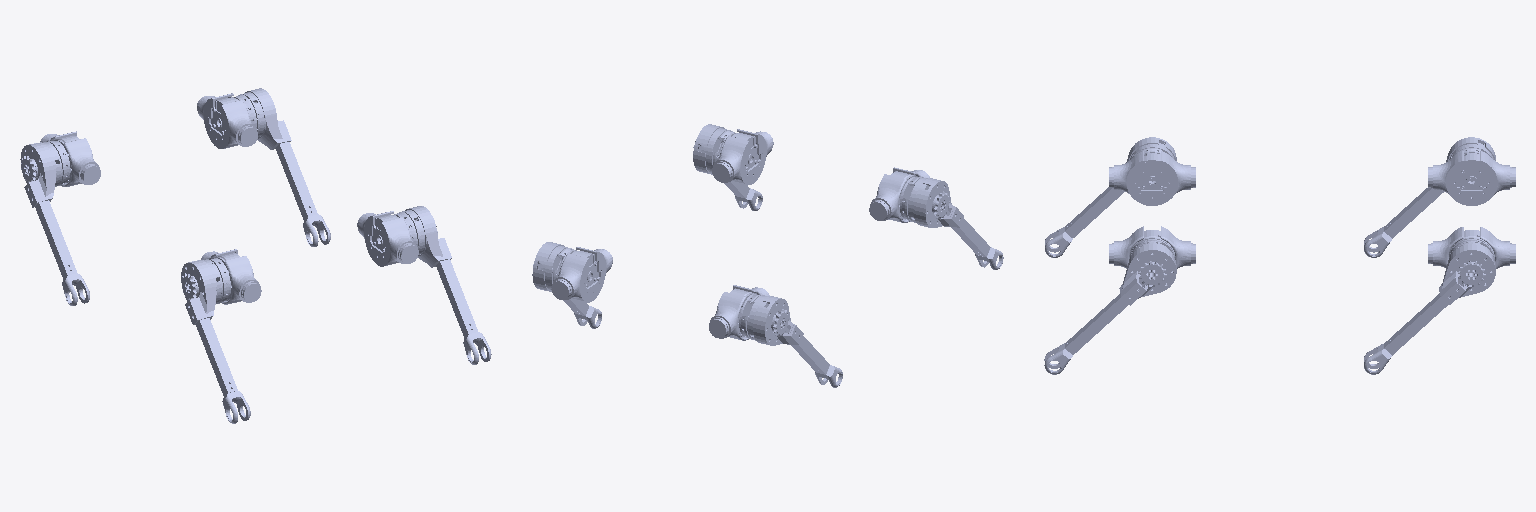
URDF robot description (NUDogv2):
<?xml version="1.0" encoding="utf-8"?>
<!-- This URDF was automatically created by SolidWorks to URDF Exporter! Originally created by [author] ([email redacted]) 
     Commit Version: 1.6.0-4-g7f85cfe  Build Version: 1.6.7995.38578
     For more information, please see http://wiki.ros.org/sw_urdf_exporter -->
<robot
  name="NUDogv2">
  <link
    name="Body">
    <inertial>
      <origin
        xyz="-0.000211548270024517 -0.455924903723439 0.000570759184668047"
        rpy="0 0 0" />
      <mass
        value="7.3658966638029" />
      <inertia
        ixx="0.149737913482403"
        ixy="5.4566009501789E-07"
        ixz="-8.98208160406347E-13"
        iyy="0.0402457604729162"
        iyz="6.61238000974235E-11"
        izz="0.174510484060074" />
    </inertial>
    <visual>
      <origin
        xyz="0 0 0"
        rpy="0 0 0" />
      <geometry>
        <mesh
          filename="package://NUDogv2/meshes/Body.STL" />
      </geometry>
      <material
        name="">
        <color
          rgba="0.898039215686275 0.92156862745098 0.929411764705882 1" />
      </material>
    </visual>
    <collision>
      <origin
        xyz="0 0 0"
        rpy="0 0 0" />
      <geometry>
        <mesh
          filename="package://NUDogv2/meshes/Body.STL" />
      </geometry>
    </collision>
  </link>
  <link
    name="FR_1">
    <inertial>
      <origin
        xyz="-0.00176714022956819 0.000819654001147196 -0.0869564696489047"
        rpy="0 0 0" />
      <mass
        value="0.628306425345395" />
      <inertia
        ixx="0.00162123013189857"
        ixy="3.09906069011344E-06"
        ixz="-4.75997103606045E-08"
        iyy="0.00196763934294934"
        iyz="1.95223651534237E-07"
        izz="0.00053714617815285" />
    </inertial>
    <visual>
      <origin
        xyz="0 0 0"
        rpy="0 0 0" />
      <geometry>
        <mesh
          filename="package://NUDogv2/meshes/FR_1.STL" />
      </geometry>
      <material
        name="">
        <color
          rgba="0.792156862745098 0.819607843137255 0.933333333333333 1" />
      </material>
    </visual>
    <collision>
      <origin
        xyz="0 0 0"
        rpy="0 0 0" />
      <geometry>
        <mesh
          filename="package://NUDogv2/meshes/FR_1.STL" />
      </geometry>
    </collision>
  </link>
  <joint
    name="FR_Ad"
    type="revolute">
    <origin
      xyz="0.2 -0.19035 0"
      rpy="1.5708 -1.5708 0" />
    <parent
      link="Body" />
    <child
      link="FR_1" />
    <axis
      xyz="0 0 1" />
    <limit
      lower="-5"
      upper="5"
      effort="5"
      velocity="5" />
  </joint>
  <link
    name="FR_2">
    <inertial>
      <origin
        xyz="3.88653367643932E-05 -0.0440099346861161 -0.0372579060320848"
        rpy="0 0 0" />
      <mass
        value="0.955322691926052" />
      <inertia
        ixx="0.00135385236553172"
        ixy="-1.30915451823784E-06"
        ixz="5.40561671335864E-08"
        iyy="0.000526597180169"
        iyz="-1.02092745449935E-05"
        izz="0.00173666668506924" />
    </inertial>
    <visual>
      <origin
        xyz="0 0 0"
        rpy="0 0 0" />
      <geometry>
        <mesh
          filename="package://NUDogv2/meshes/FR_2.STL" />
      </geometry>
      <material
        name="">
        <color
          rgba="0.792156862745098 0.819607843137255 0.933333333333333 1" />
      </material>
    </visual>
    <collision>
      <origin
        xyz="0 0 0"
        rpy="0 0 0" />
      <geometry>
        <mesh
          filename="package://NUDogv2/meshes/FR_2.STL" />
      </geometry>
    </collision>
  </link>
  <joint
    name="FR_Hip"
    type="revolute">
    <origin
      xyz="0 -0.04635 -0.087"
      rpy="-1.5708 -0.78534 0" />
    <parent
      link="FR_1" />
    <child
      link="FR_2" />
    <axis
      xyz="0 0 1" />
    <limit
      lower="-5"
      upper="5"
      effort="5"
      velocity="5" />
  </joint>
  <link
    name="FR_3">
    <inertial>
      <origin
        xyz="0.105104655181102 -0.0640400377599924 -0.0238900020682811"
        rpy="0 0 0" />
      <mass
        value="0.423252165011343" />
      <inertia
        ixx="0.000289863197916037"
        ixy="0.000346854331370428"
        ixz="-1.45405032408544E-10"
        iyy="0.000644163854037181"
        iyz="3.97590266565829E-10"
        izz="0.000881301821186304" />
    </inertial>
    <visual>
      <origin
        xyz="0 0 0"
        rpy="0 0 0" />
      <geometry>
        <mesh
          filename="package://NUDogv2/meshes/FR_3.STL" />
      </geometry>
      <material
        name="">
        <color
          rgba="0.647058823529412 0.619607843137255 0.588235294117647 1" />
      </material>
    </visual>
    <collision>
      <origin
        xyz="0 0 0"
        rpy="0 0 0" />
      <geometry>
        <mesh
          filename="package://NUDogv2/meshes/FR_3.STL" />
      </geometry>
    </collision>
  </link>
  <joint
    name="FR_Knee"
    type="revolute">
    <origin
      xyz="0.00025 -0.3066 -0.083724"
      rpy="3.1416 0 2.7668" />
    <parent
      link="FR_2" />
    <child
      link="FR_3" />
    <axis
      xyz="0 0 1" />
    <limit
      lower="-5"
      upper="5"
      effort="5"
      velocity="5" />
  </joint>
  <link
    name="FL_1">
    <inertial>
      <origin
        xyz="-0.00176714526033473 -0.000819664820074811 -0.0870435354363932"
        rpy="0 0 0" />
      <mass
        value="0.628305321520991" />
      <inertia
        ixx="0.00162123211647625"
        ixy="-3.09902629211013E-06"
        ixz="4.82593164647364E-08"
        iyy="0.00196763709474905"
        iyz="1.95284679307444E-07"
        izz="0.000537145766319733" />
    </inertial>
    <visual>
      <origin
        xyz="0 0 0"
        rpy="0 0 0" />
      <geometry>
        <mesh
          filename="package://NUDogv2/meshes/FL_1.STL" />
      </geometry>
      <material
        name="">
        <color
          rgba="0.792156862745098 0.819607843137255 0.933333333333333 1" />
      </material>
    </visual>
    <collision>
      <origin
        xyz="0 0 0"
        rpy="0 0 0" />
      <geometry>
        <mesh
          filename="package://NUDogv2/meshes/FL_1.STL" />
      </geometry>
    </collision>
  </link>
  <joint
    name="FL_Ad"
    type="revolute">
    <origin
      xyz="-0.2 -0.19035 0"
      rpy="1.5708 -1.5708 0" />
    <parent
      link="Body" />
    <child
      link="FL_1" />
    <axis
      xyz="0 0 1" />
    <limit
      lower="-5"
      upper="5"
      effort="5"
      velocity="5" />
  </joint>
  <link
    name="FL_2">
    <inertial>
      <origin
        xyz="6.88107812843175E-05 -0.0439891388981822 -0.0372579049106987"
        rpy="0 0 0" />
      <mass
        value="0.955322588232291" />
      <inertia
        ixx="0.0013538244879862"
        ixy="-1.33675940094233E-06"
        ixz="-4.18973189634197E-07"
        iyy="0.000526625025236917"
        iyz="-1.0489729600724E-05"
        izz="0.00173666666385911" />
    </inertial>
    <visual>
      <origin
        xyz="0 0 0"
        rpy="0 0 0" />
      <geometry>
        <mesh
          filename="package://NUDogv2/meshes/FL_2.STL" />
      </geometry>
      <material
        name="">
        <color
          rgba="0.792156862745098 0.819607843137255 0.933333333333333 1" />
      </material>
    </visual>
    <collision>
      <origin
        xyz="0 0 0"
        rpy="0 0 0" />
      <geometry>
        <mesh
          filename="package://NUDogv2/meshes/FL_2.STL" />
      </geometry>
    </collision>
  </link>
  <joint
    name="FL_Hip"
    type="revolute">
    <origin
      xyz="0 0.04635 -0.087"
      rpy="-1.5708 0.78534 3.1416" />
    <parent
      link="FL_1" />
    <child
      link="FL_2" />
    <axis
      xyz="0 0 1" />
    <limit
      lower="-5"
      upper="5"
      effort="5"
      velocity="5" />
  </joint>
  <link
    name="FL_3">
    <inertial>
      <origin
        xyz="0.105303663557735 -0.0646580725694623 -0.636257997934563"
        rpy="0 0 0" />
      <mass
        value="0.42325216590946" />
      <inertia
        ixx="0.000289864448673439"
        ixy="0.000346854970340331"
        ixz="4.13807842263747E-10"
        iyy="0.000644162603951156"
        iyz="5.67488376831414E-11"
        izz="0.000881301821870475" />
    </inertial>
    <visual>
      <origin
        xyz="0 0 0"
        rpy="0 0 0" />
      <geometry>
        <mesh
          filename="package://NUDogv2/meshes/FL_3.STL" />
      </geometry>
      <material
        name="">
        <color
          rgba="0.192156862745098 0.203921568627451 0.203921568627451 1" />
      </material>
    </visual>
    <collision>
      <origin
        xyz="0 0 0"
        rpy="0 0 0" />
      <geometry>
        <mesh
          filename="package://NUDogv2/meshes/FL_3.STL" />
      </geometry>
    </collision>
  </link>
  <joint
    name="FL_Knee"
    type="revolute">
    <origin
      xyz="-0.00025 -0.3066 0.57642"
      rpy="0 0 0.37477" />
    <parent
      link="FL_2" />
    <child
      link="FL_3" />
    <axis
      xyz="0 0 1" />
    <limit
      lower="-5"
      upper="5"
      effort="5"
      velocity="5" />
  </joint>
  <link
    name="BR_1">
    <inertial>
      <origin
        xyz="0.00176714526033449 -0.000819664820074922 0.0870435354363934"
        rpy="0 0 0" />
      <mass
        value="0.628305321520992" />
      <inertia
        ixx="0.00162123211647626"
        ixy="3.09902629211019E-06"
        ixz="4.82593164644143E-08"
        iyy="0.00196763709474905"
        iyz="-1.95284679307826E-07"
        izz="0.000537145766319732" />
    </inertial>
    <visual>
      <origin
        xyz="0 0 0"
        rpy="0 0 0" />
      <geometry>
        <mesh
          filename="package://NUDogv2/meshes/BR_1.STL" />
      </geometry>
      <material
        name="">
        <color
          rgba="0.792156862745098 0.819607843137255 0.933333333333333 1" />
      </material>
    </visual>
    <collision>
      <origin
        xyz="0 0 0"
        rpy="0 0 0" />
      <geometry>
        <mesh
          filename="package://NUDogv2/meshes/BR_1.STL" />
      </geometry>
    </collision>
  </link>
  <joint
    name="BR_Ad"
    type="revolute">
    <origin
      xyz="0.2 -0.72405 0"
      rpy="1.5708 1.5708 0" />
    <parent
      link="Body" />
    <child
      link="BR_1" />
    <axis
      xyz="0 0 1" />
    <limit
      lower="-5"
      upper="5"
      effort="5"
      velocity="5" />
  </joint>
  <link
    name="BR_2">
    <inertial>
      <origin
        xyz="3.88641970533454E-05 -0.0440099426546752 -0.0372579046962084"
        rpy="0 0 0" />
      <mass
        value="0.955322561394478" />
      <inertia
        ixx="0.00135385235013848"
        ixy="-1.3091467422203E-06"
        ixz="5.40634689426503E-08"
        iyy="0.000526597159136609"
        iyz="-1.02092692452132E-05"
        izz="0.00173666666337671" />
    </inertial>
    <visual>
      <origin
        xyz="0 0 0"
        rpy="0 0 0" />
      <geometry>
        <mesh
          filename="package://NUDogv2/meshes/BR_2.STL" />
      </geometry>
      <material
        name="">
        <color
          rgba="0.792156862745098 0.819607843137255 0.933333333333333 1" />
      </material>
    </visual>
    <collision>
      <origin
        xyz="0 0 0"
        rpy="0 0 0" />
      <geometry>
        <mesh
          filename="package://NUDogv2/meshes/BR_2.STL" />
      </geometry>
    </collision>
  </link>
  <joint
    name="BR_Hip"
    type="revolute">
    <origin
      xyz="0 0.04635 0.087"
      rpy="-1.5708 -0.78534 -3.1416" />
    <parent
      link="BR_1" />
    <child
      link="BR_2" />
    <axis
      xyz="0 0 1" />
    <limit
      lower="-5"
      upper="5"
      effort="5"
      velocity="5" />
  </joint>
  <link
    name="BR_3">
    <inertial>
      <origin
        xyz="-0.120728218455898 -0.0239334962150342 0.0175400020693254"
        rpy="0 0 0" />
      <mass
        value="0.423252165078239" />
      <inertia
        ixx="0.000107613075131097"
        ixy="-0.000150071589098105"
        ixz="-2.73415295467842E-10"
        iyy="0.000826413976828154"
        iyz="-3.23211280137644E-10"
        izz="0.000881301821191495" />
    </inertial>
    <visual>
      <origin
        xyz="0 0 0"
        rpy="0 0 0" />
      <geometry>
        <mesh
          filename="package://NUDogv2/meshes/BR_3.STL" />
      </geometry>
      <material
        name="">
        <color
          rgba="0.647058823529412 0.619607843137255 0.588235294117647 1" />
      </material>
    </visual>
    <collision>
      <origin
        xyz="0 0 0"
        rpy="0 0 0" />
      <geometry>
        <mesh
          filename="package://NUDogv2/meshes/BR_3.STL" />
      </geometry>
    </collision>
  </link>
  <joint
    name="BR_Knee"
    type="revolute">
    <origin
      xyz="0.00025 -0.3066 -0.077374"
      rpy="0 0 -0.023244" />
    <parent
      link="BR_2" />
    <child
      link="BR_3" />
    <axis
      xyz="0 0 1" />
    <limit
      lower="-5"
      upper="5"
      effort="5"
      velocity="5" />
  </joint>
  <link
    name="BL_1">
    <inertial>
      <origin
        xyz="0.00176714022956802 0.000819654001147169 0.0869564696489052"
        rpy="0 0 0" />
      <mass
        value="0.628306425345398" />
      <inertia
        ixx="0.00162123013189857"
        ixy="-3.09906069011293E-06"
        ixz="-4.75997103593867E-08"
        iyy="0.00196763934294934"
        iyz="-1.95223651534071E-07"
        izz="0.000537146178152854" />
    </inertial>
    <visual>
      <origin
        xyz="0 0 0"
        rpy="0 0 0" />
      <geometry>
        <mesh
          filename="package://NUDogv2/meshes/BL_1.STL" />
      </geometry>
      <material
        name="">
        <color
          rgba="0.792156862745098 0.819607843137255 0.933333333333333 1" />
      </material>
    </visual>
    <collision>
      <origin
        xyz="0 0 0"
        rpy="0 0 0" />
      <geometry>
        <mesh
          filename="package://NUDogv2/meshes/BL_1.STL" />
      </geometry>
    </collision>
  </link>
  <joint
    name="BL_Ad"
    type="revolute">
    <origin
      xyz="-0.2 -0.72405 0"
      rpy="1.5708 1.5708 0" />
    <parent
      link="Body" />
    <child
      link="BL_1" />
    <axis
      xyz="0 0 1" />
    <limit
      lower="-5"
      upper="5"
      effort="5"
      velocity="5" />
  </joint>
  <link
    name="BL_2">
    <inertial>
      <origin
        xyz="6.8810906338812E-05 -0.0439891393180145 -0.0372579044789478"
        rpy="0 0 0" />
      <mass
        value="0.955322565334975" />
      <inertia
        ixx="0.00135382448511837"
        ixy="-1.33676015052377E-06"
        ixz="-4.18972136940502E-07"
        iyy="0.00052662502351927"
        iyz="-1.04897298938561E-05"
        izz="0.00173666666193975" />
    </inertial>
    <visual>
      <origin
        xyz="0 0 0"
        rpy="0 0 0" />
      <geometry>
        <mesh
          filename="package://NUDogv2/meshes/BL_2.STL" />
      </geometry>
      <material
        name="">
        <color
          rgba="0.792156862745098 0.819607843137255 0.933333333333333 1" />
      </material>
    </visual>
    <collision>
      <origin
        xyz="0 0 0"
        rpy="0 0 0" />
      <geometry>
        <mesh
          filename="package://NUDogv2/meshes/BL_2.STL" />
      </geometry>
    </collision>
  </link>
  <joint
    name="BL_Hip"
    type="revolute">
    <origin
      xyz="0 -0.04635 0.087"
      rpy="-1.5708 0.78534 0" />
    <parent
      link="BL_1" />
    <child
      link="BL_2" />
    <axis
      xyz="0 0 1" />
    <limit
      lower="-5"
      upper="5"
      effort="5"
      velocity="5" />
  </joint>
  <link
    name="BL_3">
    <inertial>
      <origin
        xyz="0.00025502438265268 -0.123077412862254 -0.000270702067466488"
        rpy="0 0 0" />
      <mass
        value="0.423252166006372" />
      <inertia
        ixx="0.000856487743888114"
        ixy="7.02282585465222E-10"
        ixz="2.64445601179726E-10"
        iyy="7.75393087370826E-05"
        iyz="3.2330608030048E-10"
        izz="0.000881301821869342" />
    </inertial>
    <visual>
      <origin
        xyz="0 0 0"
        rpy="0 0 0" />
      <geometry>
        <mesh
          filename="package://NUDogv2/meshes/BL_3.STL" />
      </geometry>
      <material
        name="">
        <color
          rgba="0.192156862745098 0.203921568627451 0.203921568627451 1" />
      </material>
    </visual>
    <collision>
      <origin
        xyz="0 0 0"
        rpy="0 0 0" />
      <geometry>
        <mesh
          filename="package://NUDogv2/meshes/BL_3.STL" />
      </geometry>
    </collision>
  </link>
  <joint
    name="BL_Knee"
    type="revolute">
    <origin
      xyz="0.00025 -0.3066 -0.060105"
      rpy="3.1416 0 -1.7453" />
    <parent
      link="BL_2" />
    <child
      link="BL_3" />
    <axis
      xyz="0 0 1" />
    <limit
      lower="-5"
      upper="5"
      effort="5"
      velocity="5" />
  </joint>
</robot>

--- What the picture shows (computed from the rendered views, not written in the file) ---
The picture shows the robot from 3 angles, left to right: view 1: azimuth 30°, elevation 25°; view 2: azimuth 150°, elevation 25°; view 3: azimuth 270°, elevation 25°; orthographic projection.
Robot: NUDogv2 — 13 links, 12 joints (12 revolute); root link Body; default pose: all joints at 0.
Visible links, largest first — view 1: BL_2, FL_2, BR_2, FR_2, BR_1, FR_1, FL_1, BL_1; view 2: BL_2, FL_2, BR_1, FR_1, FR_2, BR_2, FL_1, BL_1; view 3: FR_2, BR_2, FL_1, BL_1, FL_2, BL_2, FR_1, BR_1.
Link boxes in pixels (x1,y1,x2,y2): BL_2: (181, 258, 250, 423); FL_2: (20, 141, 89, 305); BR_2: (394, 206, 491, 364); FR_2: (234, 88, 330, 246); BR_1: (357, 211, 418, 266); FR_1: (197, 93, 257, 148); FL_1: (40, 131, 100, 186); BL_1: (201, 249, 261, 304); BL_2: (900, 177, 1003, 269); FL_2: (739, 294, 842, 387); BR_1: (712, 129, 773, 184); FR_1: (551, 247, 612, 302); FR_2: (532, 242, 601, 328); BR_2: (693, 124, 762, 210); FL_1: (709, 285, 769, 340); BL_1: (869, 167, 929, 222); FR_2: (1364, 239, 1495, 374); BR_2: (1044, 239, 1176, 374); FL_1: (1428, 151, 1515, 205); BL_1: (1109, 151, 1195, 205); FL_2: (1364, 137, 1495, 257); BL_2: (1045, 137, 1176, 257); FR_1: (1428, 227, 1515, 268); BR_1: (1109, 226, 1195, 268).
Bounding box of the posed robot: 0.6571 × 1.04 × 0.293 m (x, y, z).
Meshes: 13 distinct files referenced, 8 mesh visuals loaded (8 binary STL); not drawn: 5 (reference not matched to a file when rendering).
